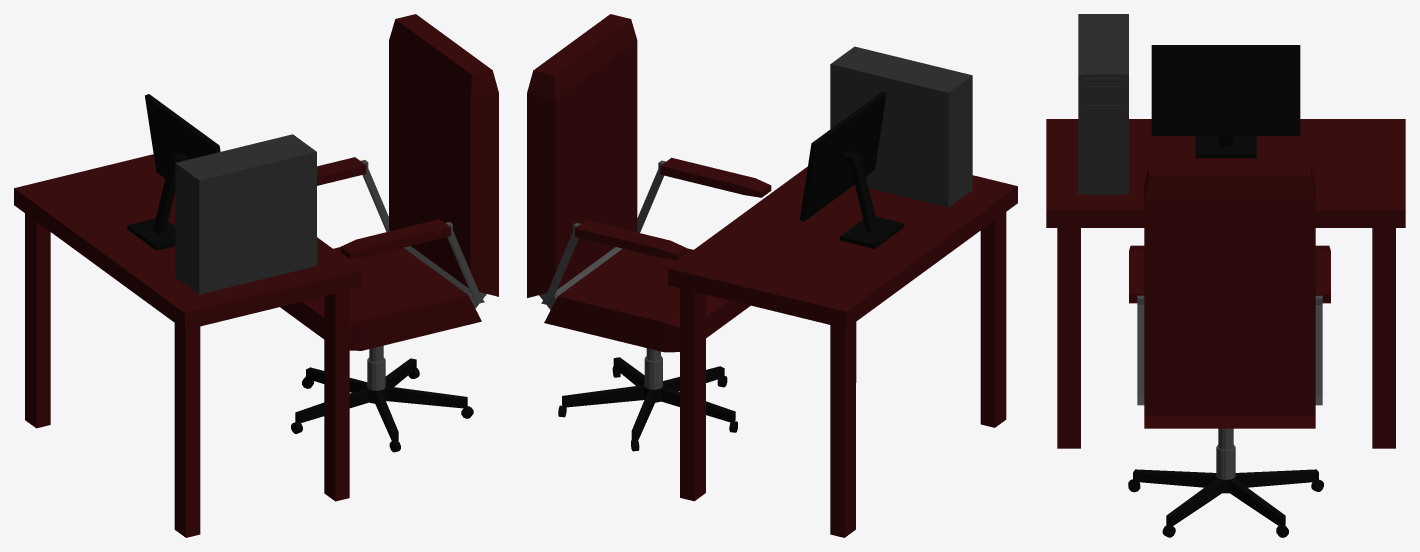
File: Comp.fbx
3 views of the same model, side by side, from view 1: azimuth 30°, elevation 25°; view 2: azimuth 150°, elevation 25°; view 3: azimuth 270°, elevation 25° (orthographic). The views are drawn at different scales.
Visible parts, largest first — view 1: Seat, Table, Comp, Screen, Whels, Grey; view 2: Table, Seat, Comp, Screen, Whels, Grey; view 3: Seat, Table, Screen, Comp, Whels, Grey.
Boxes of the visible parts, left/top/right/bottom form: Seat: left=280, top=14, right=498, bottom=350; Table: left=14, top=154, right=361, bottom=537; Comp: left=175, top=134, right=316, bottom=294; Screen: left=127, top=94, right=220, bottom=250; Whels: left=291, top=358, right=473, bottom=452; Grey: left=361, top=160, right=486, bottom=390; Table: left=668, top=166, right=1017, bottom=537; Seat: left=527, top=14, right=771, bottom=352; Comp: left=830, top=46, right=972, bottom=207; Screen: left=800, top=91, right=903, bottom=248; Whels: left=558, top=357, right=737, bottom=451; Grey: left=539, top=160, right=665, bottom=389; Seat: left=1129, top=165, right=1330, bottom=428; Table: left=1046, top=119, right=1405, bottom=448; Screen: left=1151, top=45, right=1300, bottom=158; Comp: left=1078, top=14, right=1128, bottom=194; Whels: left=1128, top=469, right=1323, bottom=537; Grey: left=1137, top=295, right=1322, bottom=479.
Size of the model in its own units: 644 by 598 by 528.
